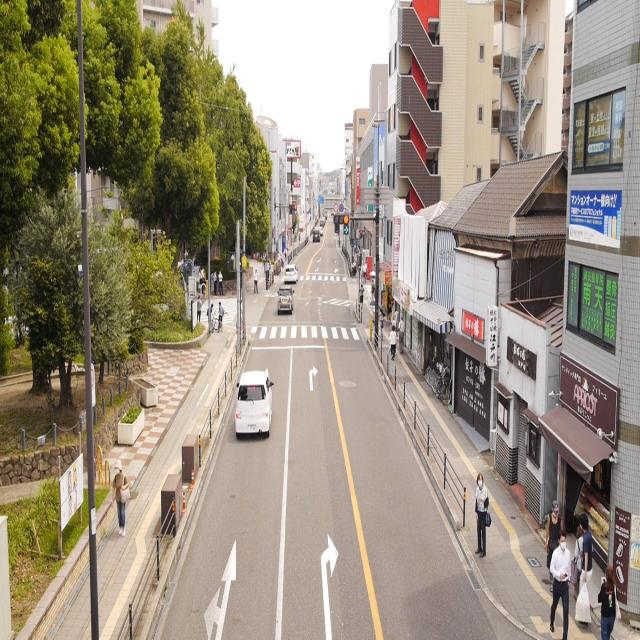Car: (234, 357, 274, 447), (276, 282, 295, 316), (283, 260, 300, 284), (312, 227, 321, 244)
